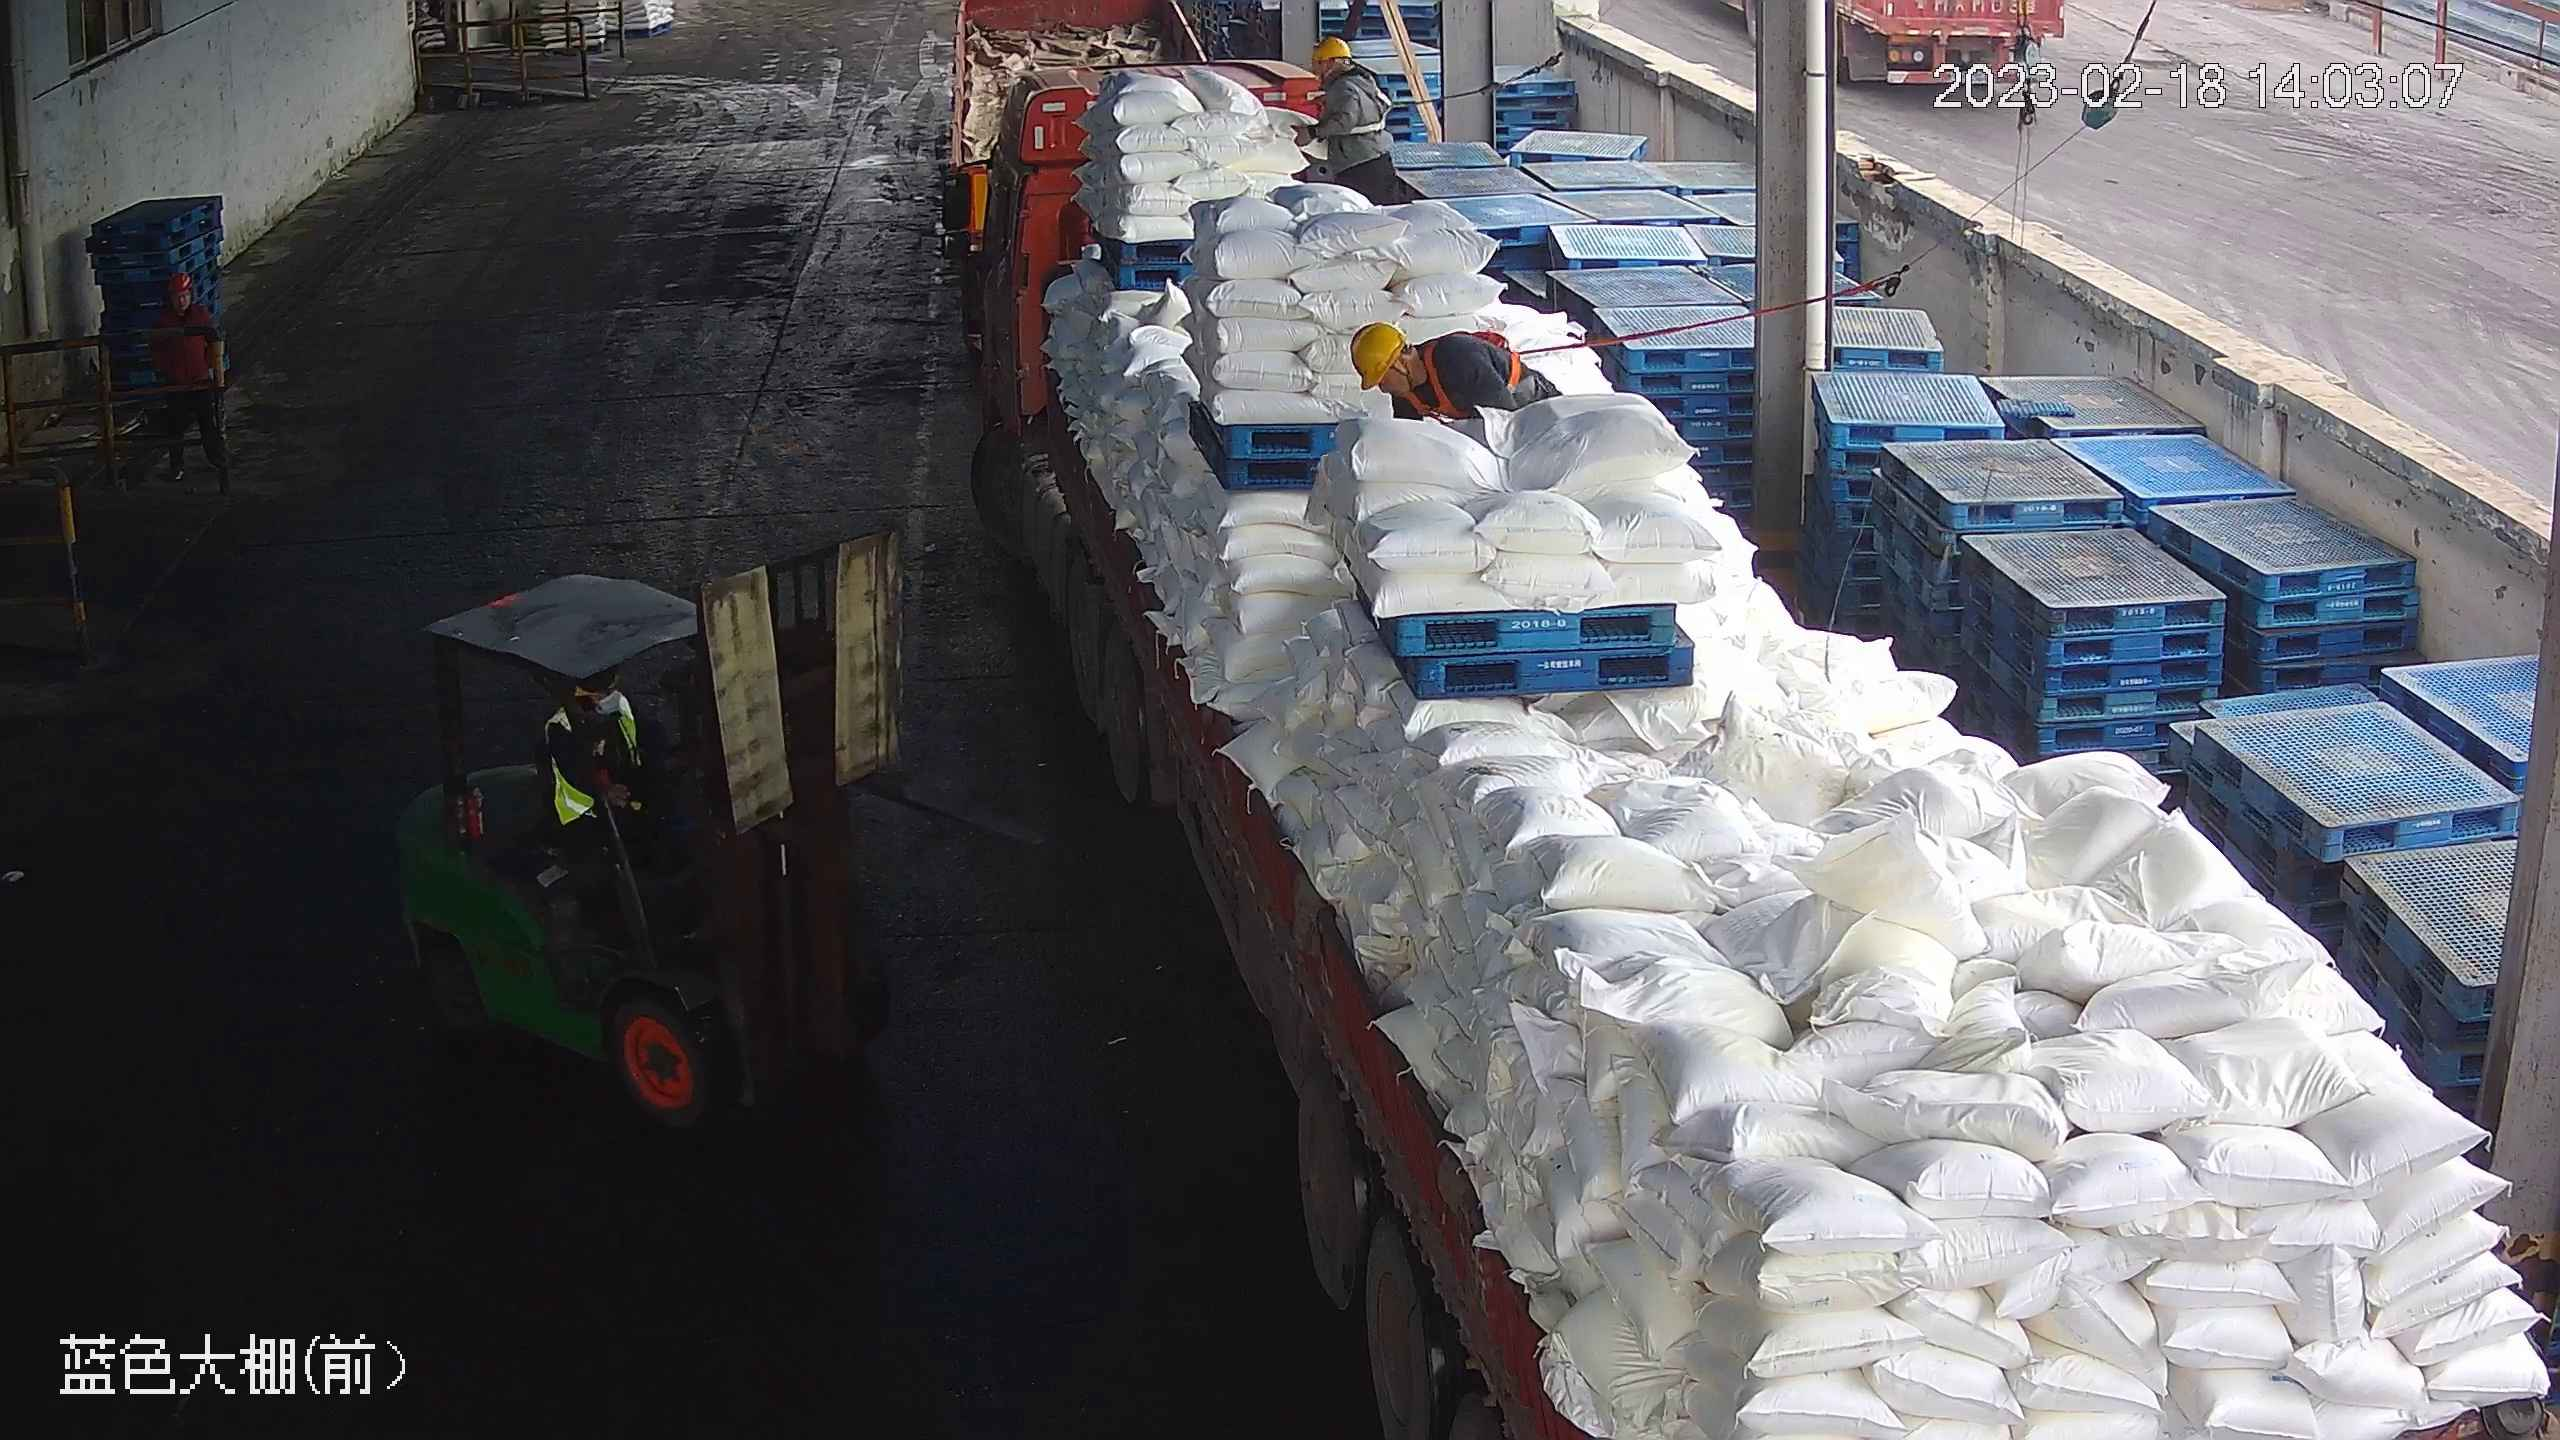belt: (1410, 324, 1525, 420), (1329, 70, 1394, 142)
head: (1351, 318, 1470, 402), (1303, 35, 1386, 101), (159, 270, 218, 333)
helmet: (1349, 318, 1409, 391), (1306, 36, 1353, 67)
people: (1276, 35, 1408, 200)
truck: (986, 34, 2558, 1440)
